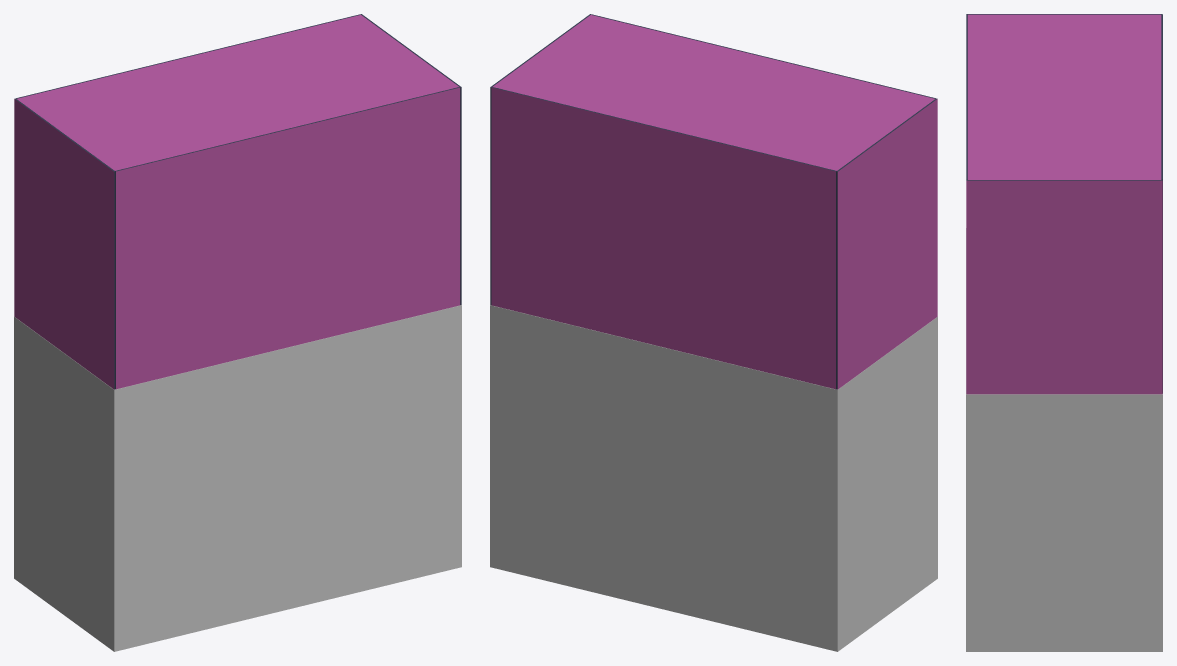
The model's file is Floor Display Case 2.fbx.
3 views of the same model, side by side, from view 1: azimuth 30°, elevation 25°; view 2: azimuth 150°, elevation 25°; view 3: azimuth 270°, elevation 25° (orthographic).
Visible parts, largest first — view 1: Glass, Display; view 2: Glass, Display; view 3: Glass, Display.
Boxes of the visible parts, x1=… form: Glass: x1=14, y1=14, x2=461, y2=389; Display: x1=14, y1=305, x2=461, y2=651; Glass: x1=490, y1=14, x2=937, y2=389; Display: x1=490, y1=305, x2=937, y2=651; Glass: x1=966, y1=14, x2=1162, y2=394; Display: x1=966, y1=228, x2=1162, y2=651.
Bounding box in the file's own units: 130 × 172 × 65.
